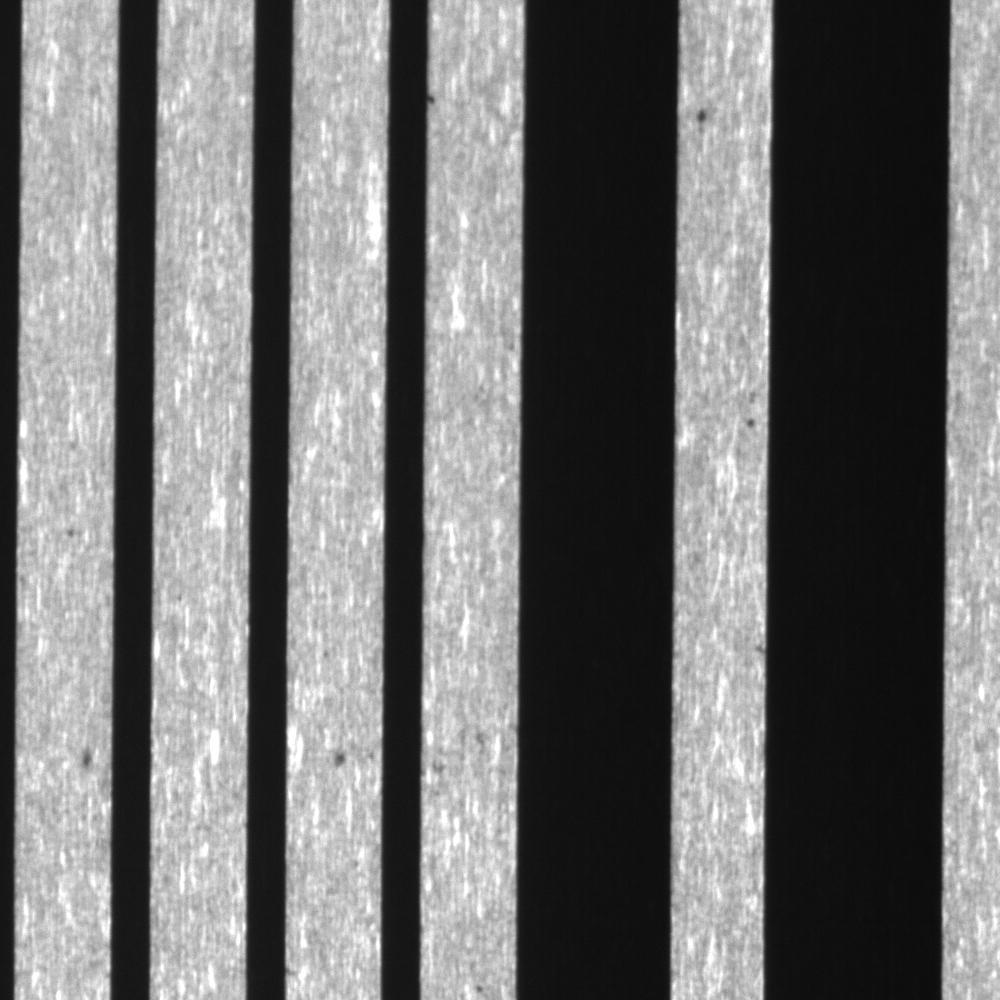Etching: (59, 741, 112, 782), (315, 742, 364, 781), (419, 76, 454, 123)
Pinhole: (690, 91, 725, 146), (730, 407, 768, 441), (56, 514, 86, 549)
